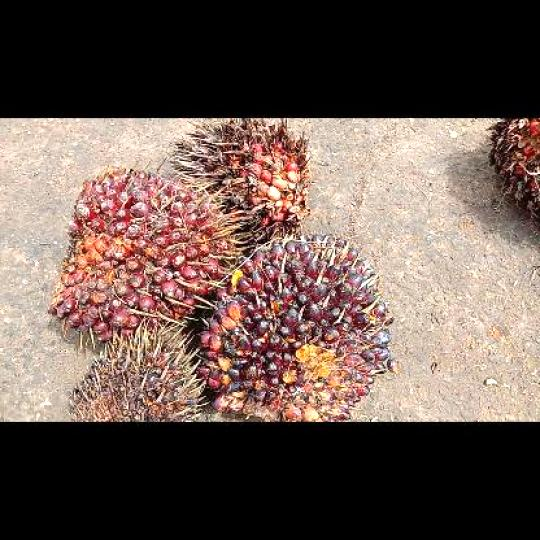kurang masak: (198, 229, 391, 420)
masak: (44, 163, 236, 346)
terlalu masak: (166, 118, 312, 244)
